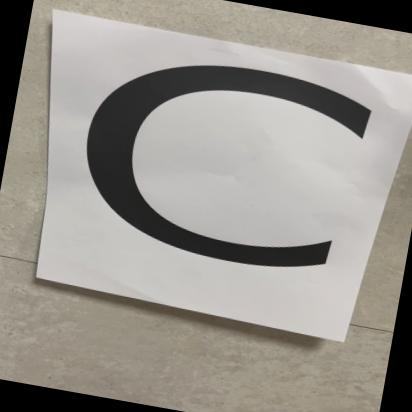seat: (30, 16, 394, 339)
